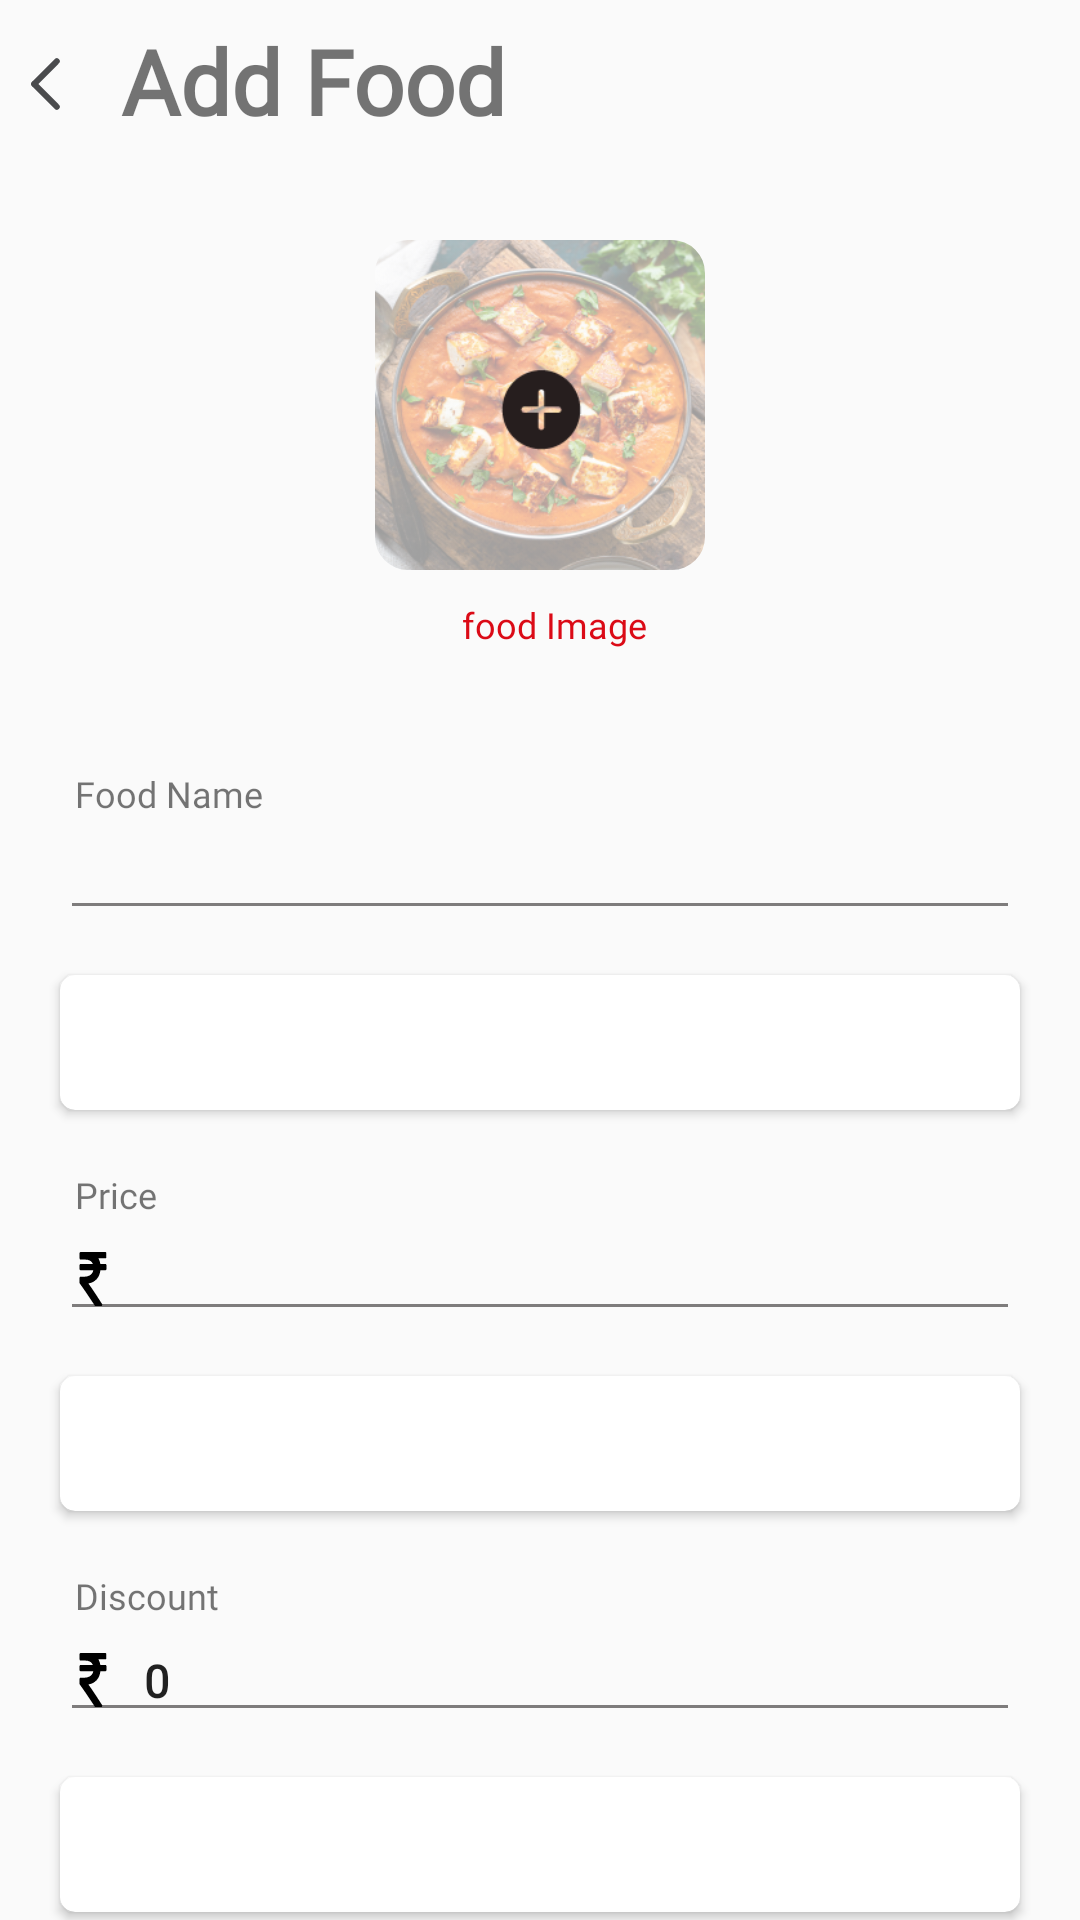

Screen size 1080×1920. Icon name, then its center in pixels as point (x, y):
arrow left: point (45, 84)
